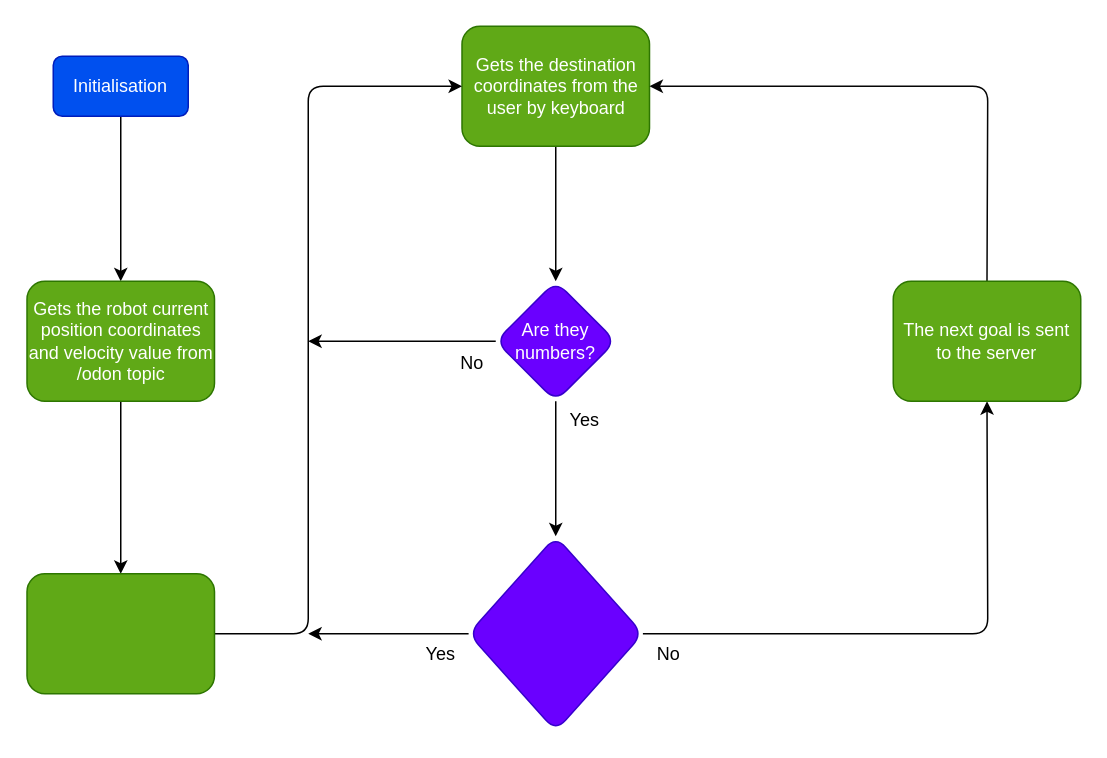
This 1107x758 diagram has some shape labels left out. The centre of each missing label's shape, as x and y in pixels:
"Send a custom message on the /position_velocity topic" goes at (x=120, y=633).
"Was a 'c' inserted in the next 10 seconds?" goes at (x=555, y=633).
